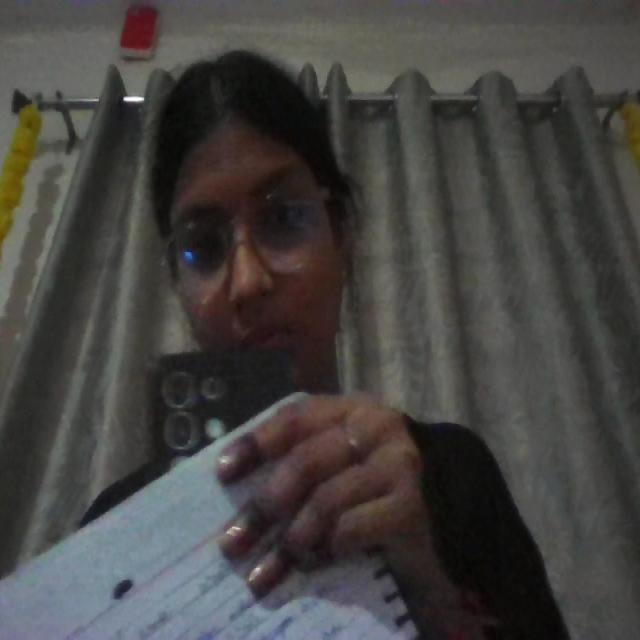phone: (149, 348, 294, 461)
